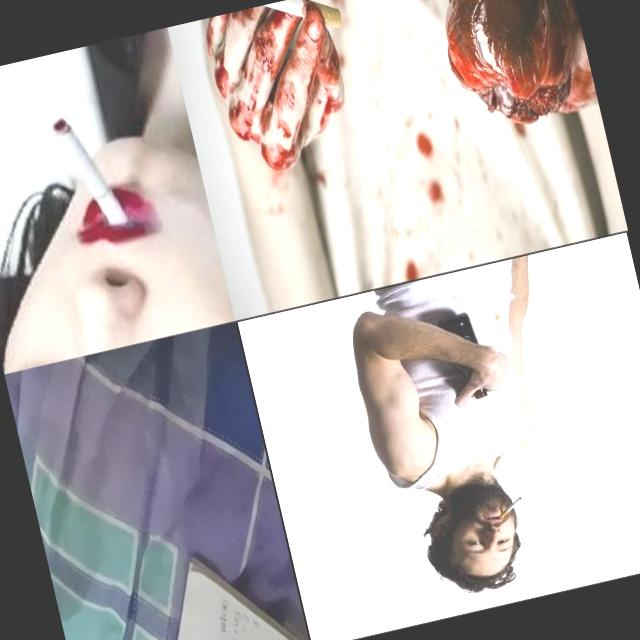smoke: (48, 107, 130, 240), (234, 0, 344, 53), (494, 496, 526, 520)
